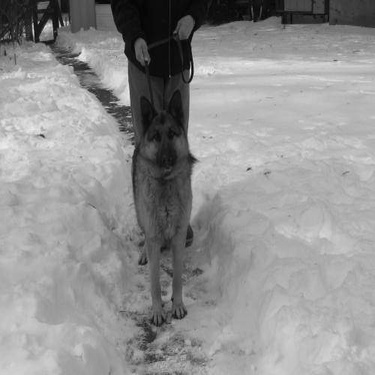dog: (101, 117, 206, 329)
